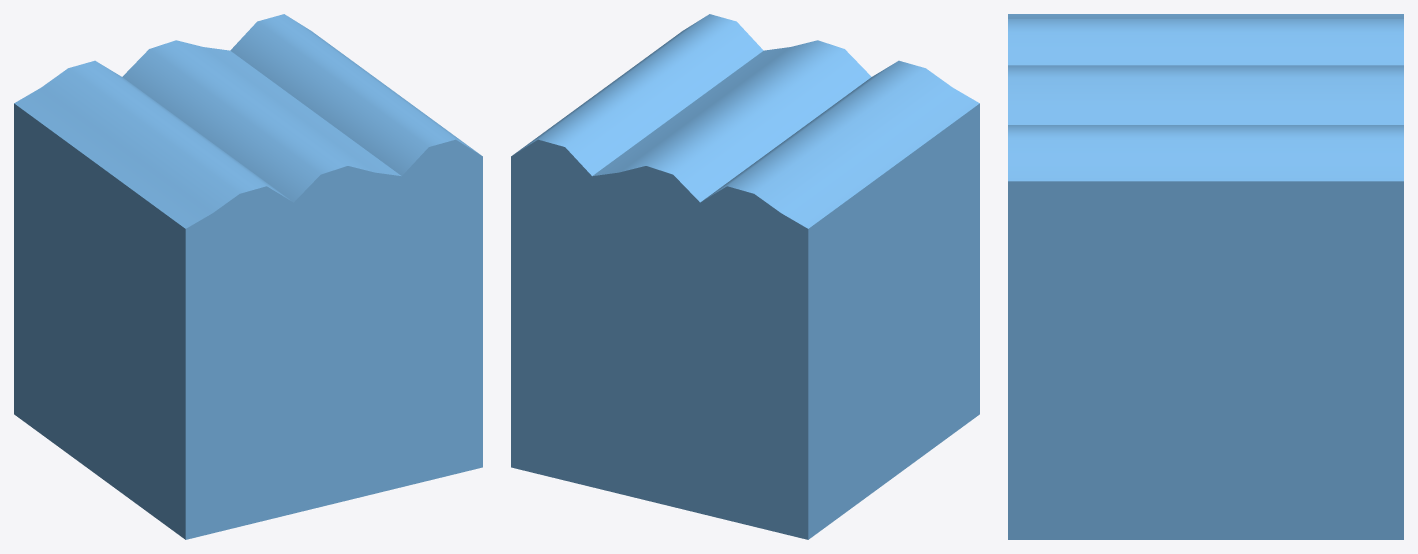
The model's file is Tile_Water.fbx.
3 renders of one model, left to right at view 1: azimuth 30°, elevation 25°; view 2: azimuth 150°, elevation 25°; view 3: azimuth 270°, elevation 25°, orthographic. The views are drawn at different scales.
Parts seen in each view (by area): view 1: Tile_Water; view 2: Tile_Water; view 3: Tile_Water.
Part boxes in pixels (x1=…): Tile_Water: x1=14, y1=14, x2=482, y2=539; Tile_Water: x1=511, y1=14, x2=979, y2=539; Tile_Water: x1=1008, y1=14, x2=1403, y2=539.
Bounding box in the file's own units: 5 × 5.38 × 5.
